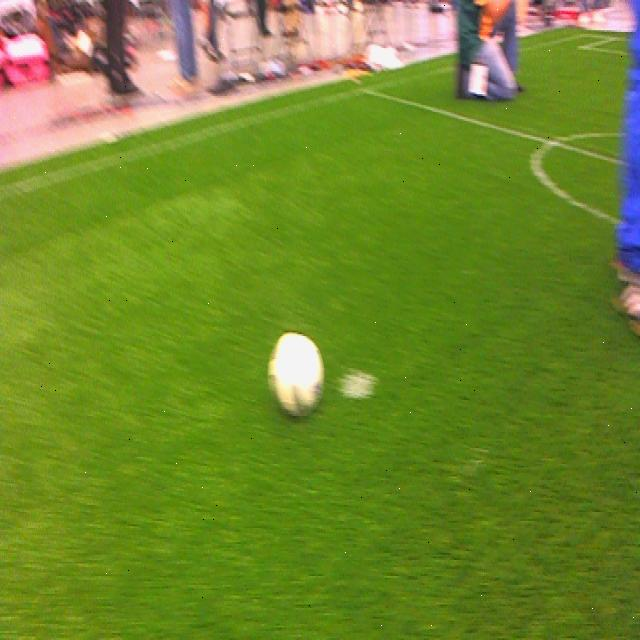ball: (269, 329, 322, 421)
